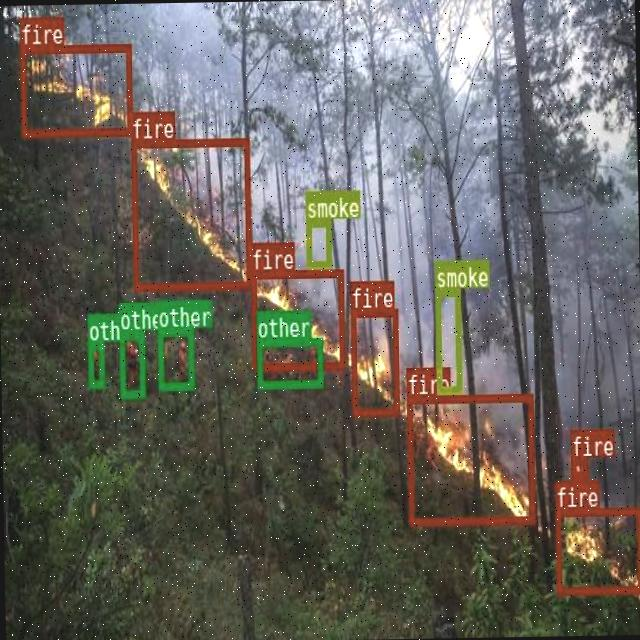fire: (129, 138, 250, 290), (406, 393, 534, 525), (19, 42, 132, 134), (250, 268, 343, 369), (554, 505, 640, 593), (350, 307, 397, 415), (570, 456, 587, 477)
smoke: (434, 288, 460, 392), (304, 216, 330, 268)
